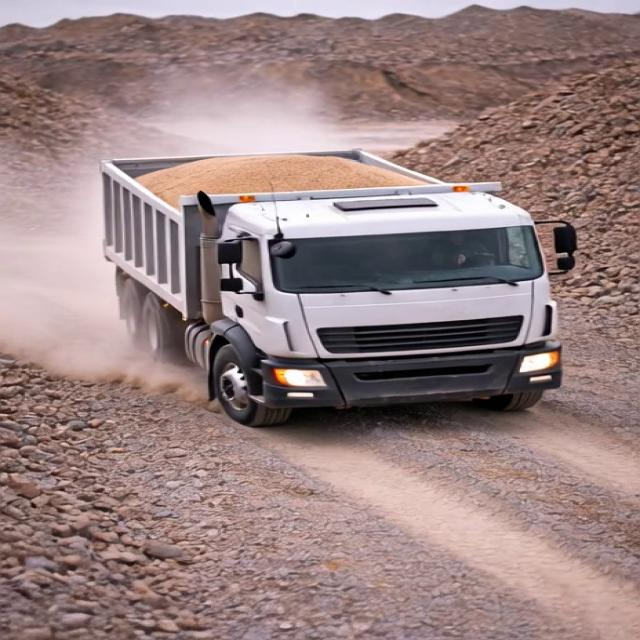Box: (96, 148, 500, 202)
Truck: (90, 122, 586, 415)
